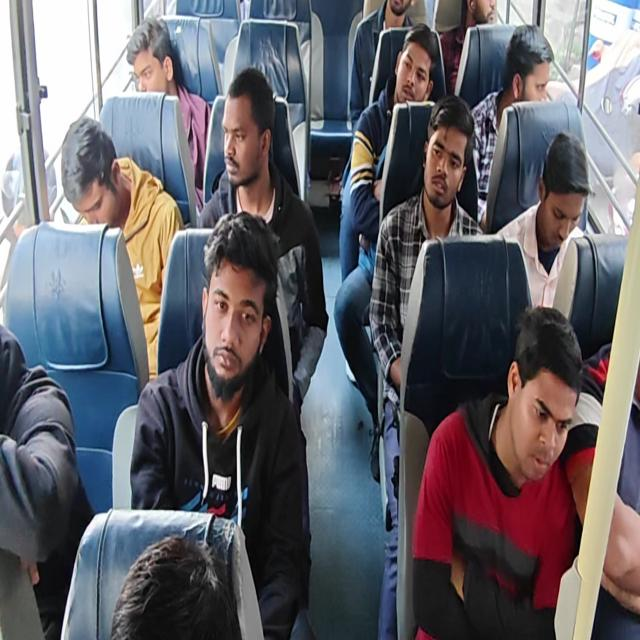person: (110, 506, 243, 640), (201, 214, 276, 412), (505, 309, 587, 477), (218, 64, 283, 187), (56, 110, 125, 222), (544, 132, 600, 258), (493, 19, 564, 114), (421, 104, 476, 208), (392, 18, 446, 119), (114, 15, 178, 100), (461, 0, 504, 20), (383, 0, 418, 15)
